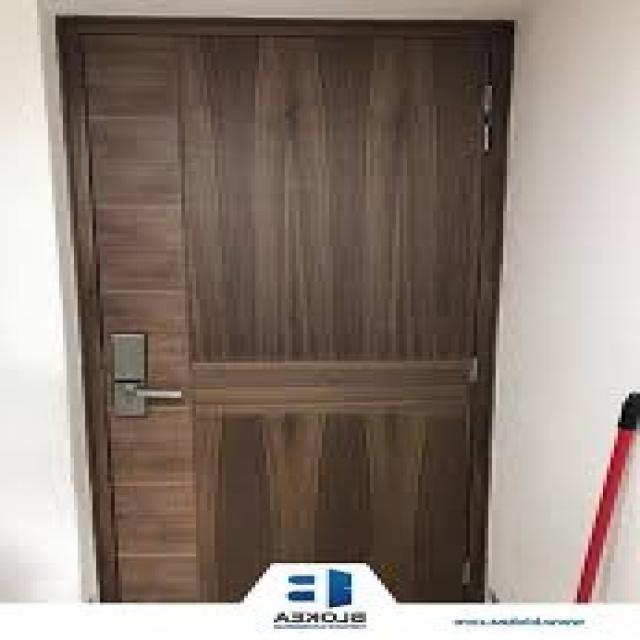door: (61, 16, 516, 604)
